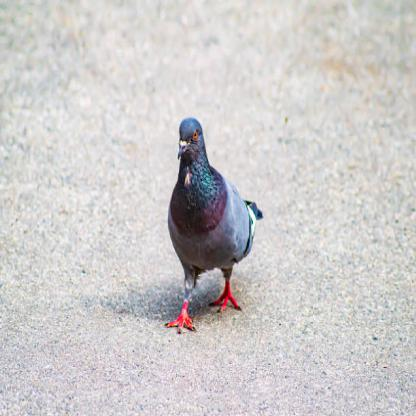Rock Pigeon: (167, 116, 255, 321)
